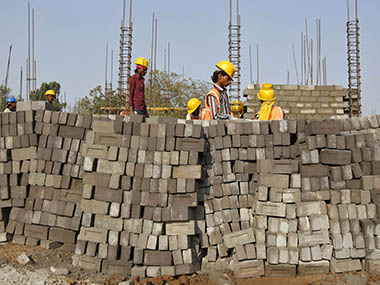NoJacket: (130, 55, 151, 112)
SAFE: (206, 59, 236, 118)
